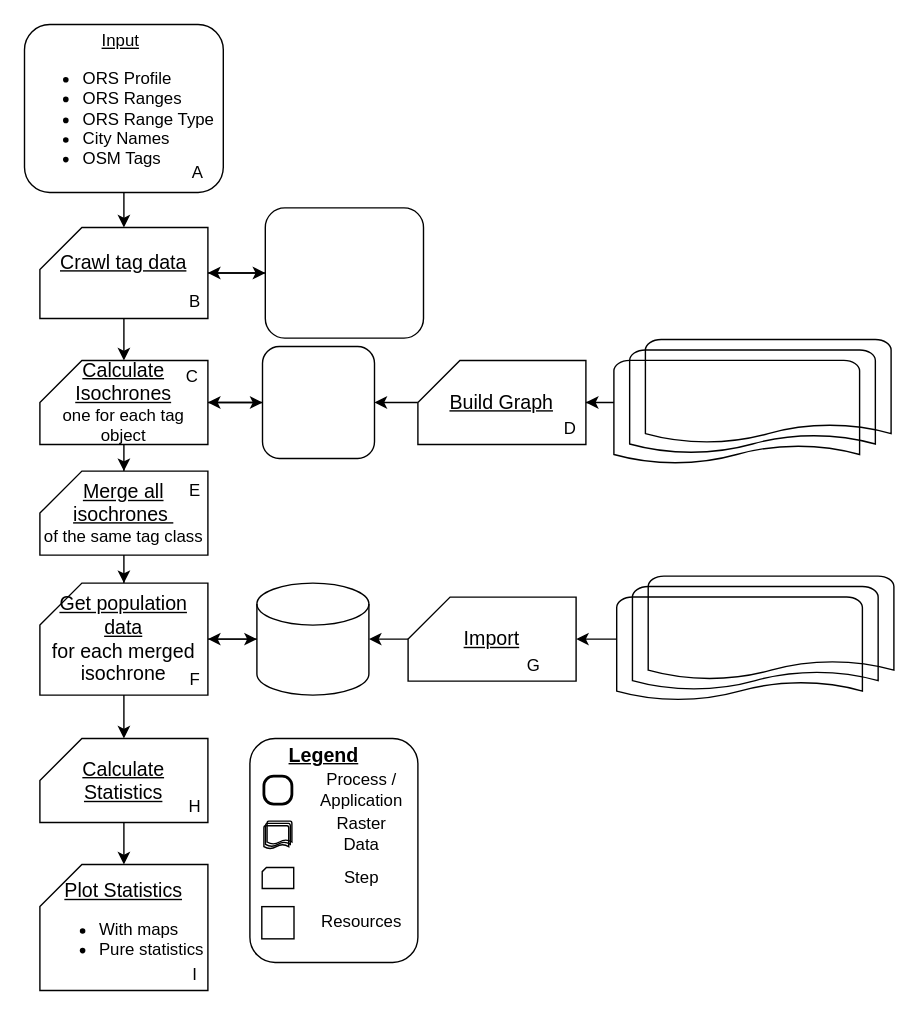
Image size: 918x1015. Some labels were removed from this diagram. The shapes that lost their labels are listed below. From the top down, each one's centre as x and y in pixels, then its label:
At (344,272): "OSM-Data (ohsome) City Boundaries Tag data".
At (317,401): "Isochrones (ORS)".
At (751,401): "Germany OpenstreetMap data".
At (312,638): "DB (PostgreSQL)".
At (754,638): "Population Data Raster Data".
